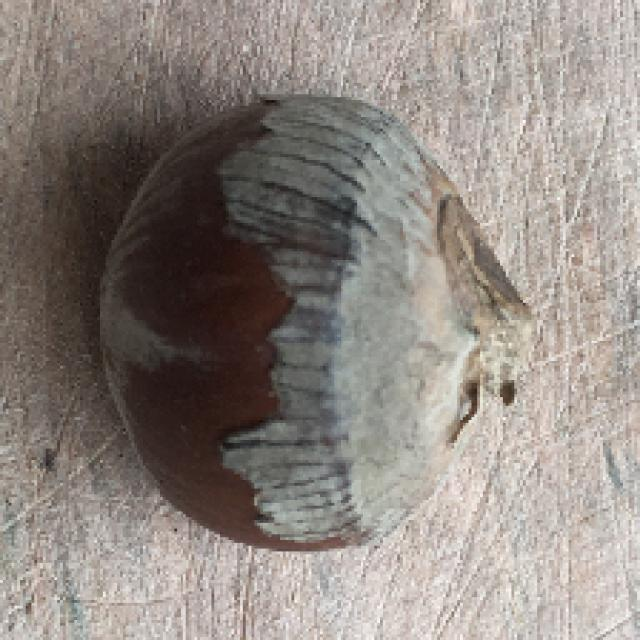damagedHazelnut: (110, 88, 519, 562)
